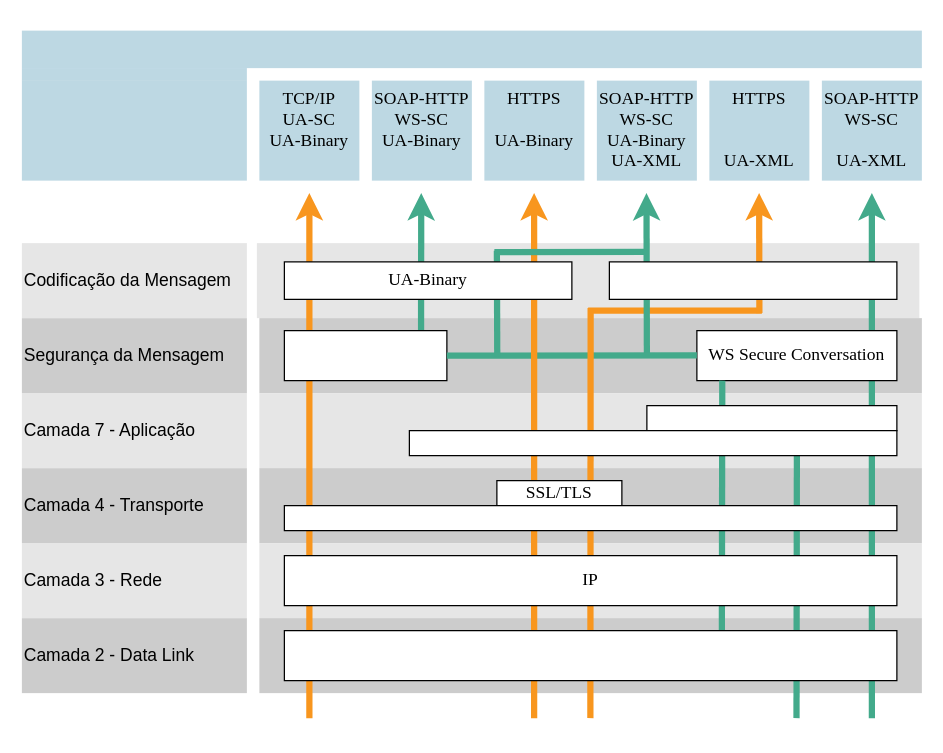
The diagram is 943 pixels wide and 753 high, and some of its shapes have lost their labels. Here are the shapes that lost their labels. From the top down, the centre of each, then its label:
At (471,49): "OPC UA".
At (133,130): "Autenticação Autorização Confidencialidade Disponibilidade Integridade Auditoria".
At (752,280): "UA-XML".
At (365,355): "UA Secure Conversation".
At (771,417): "SOAP 1.2".
At (652,442): "HTTP".
At (590,517): "TCP".
At (590,655): "Ethernet".
